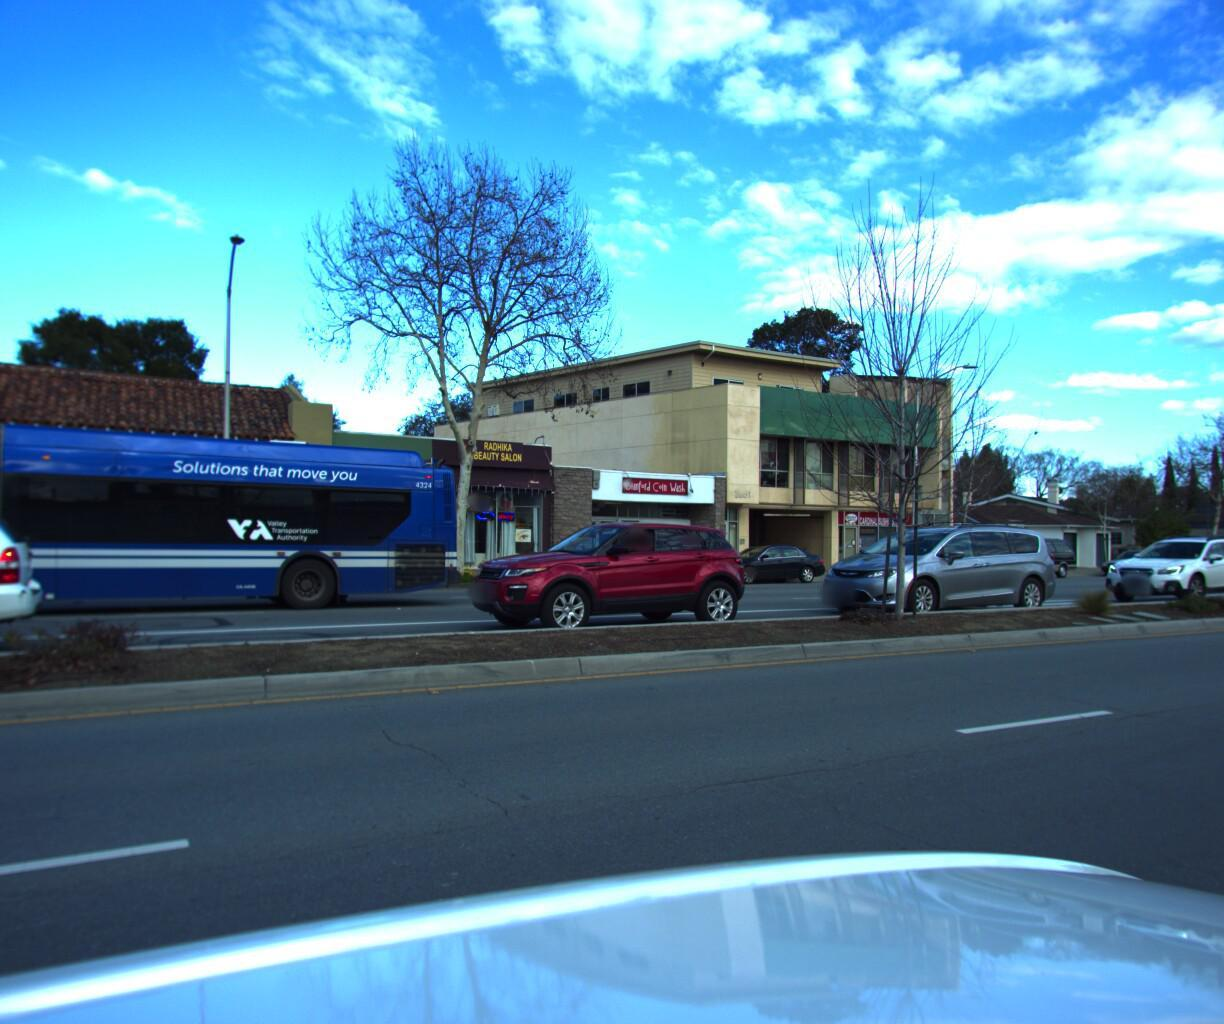bus: (0, 308, 480, 709)
car: (446, 518, 762, 643), (788, 524, 1069, 630), (0, 482, 47, 719), (1083, 529, 1224, 605), (692, 539, 825, 584), (966, 531, 1072, 577), (1082, 542, 1168, 573), (1206, 541, 1224, 569)
